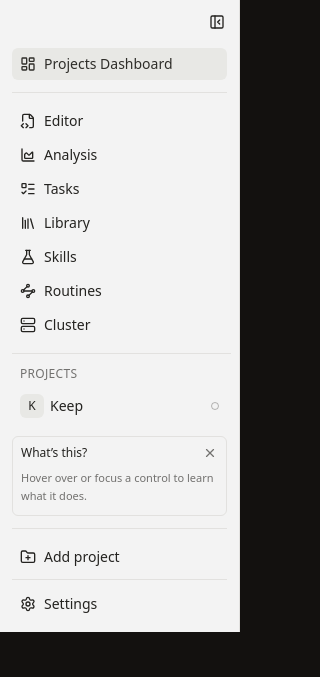
Scenario: Sidebar › shows a rejected project menu action and leaves the project visible
Right-click the link with test id "project-item": (67, 406) [50,396,83,415]
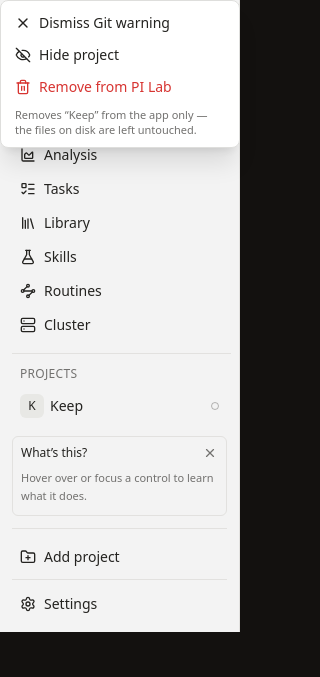
Click the menu item with test id "project-hide": (120, 55) [7,39,233,71]
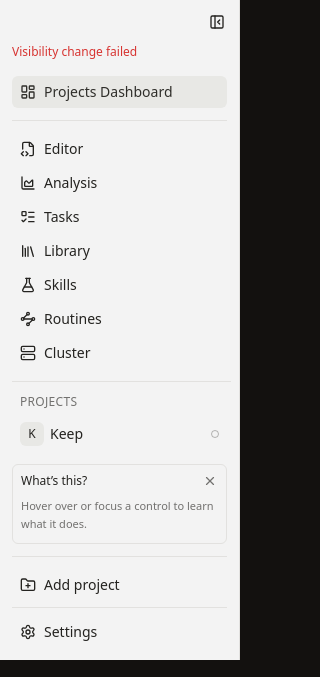
Check: the link with test id "project-item" is shown, box [50,424,83,443]
Check: the message reads "Visibility change failed", box [12,43,137,60]
